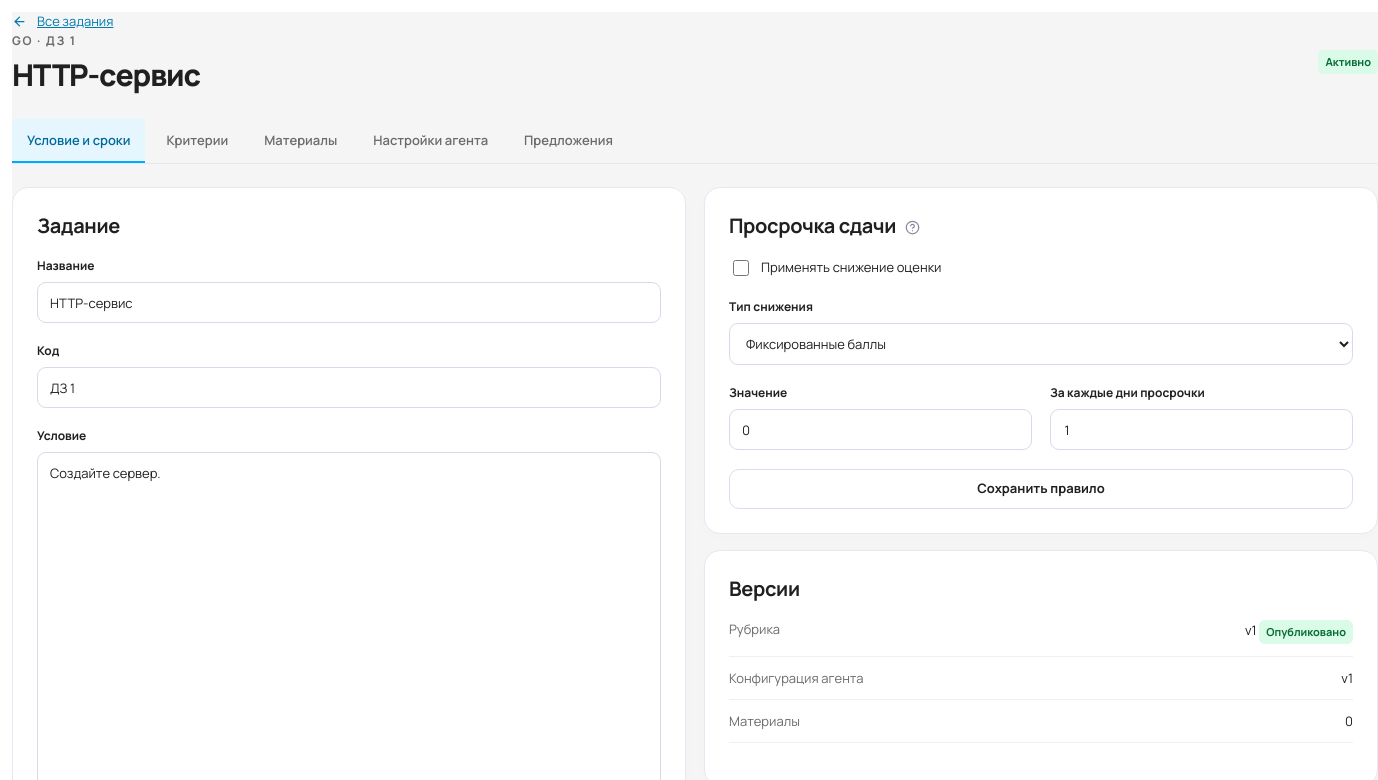
Test case: редактор заданий › не редактирует опубликованную конфигурацию на месте
This screenshot has width=1378, height=780.
Click the button "Настройки агента": (431, 141) [358,119,503,163]
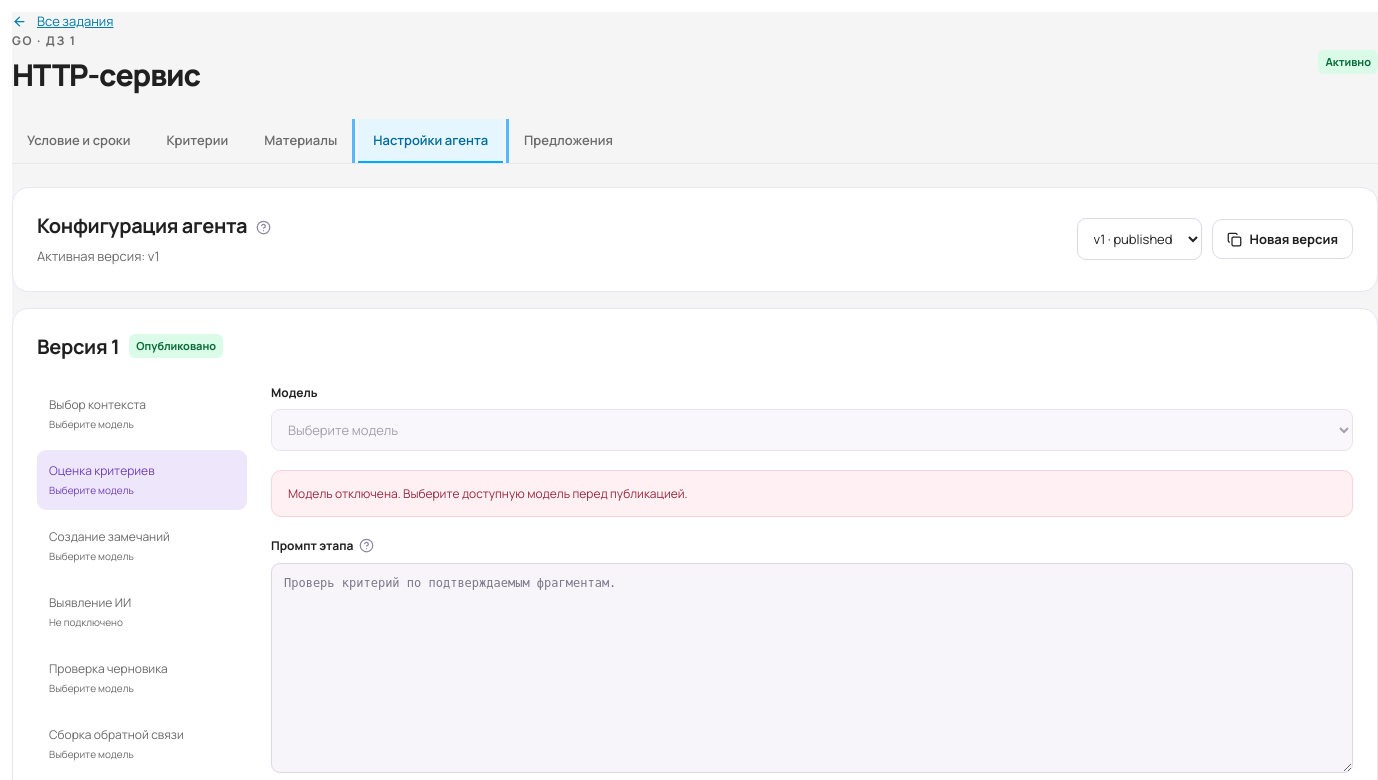
Expected: the button "Сохранить" is not shown
Result: the text box labelled "Промпт этапа" is disabled at [271,563,1353,773]
